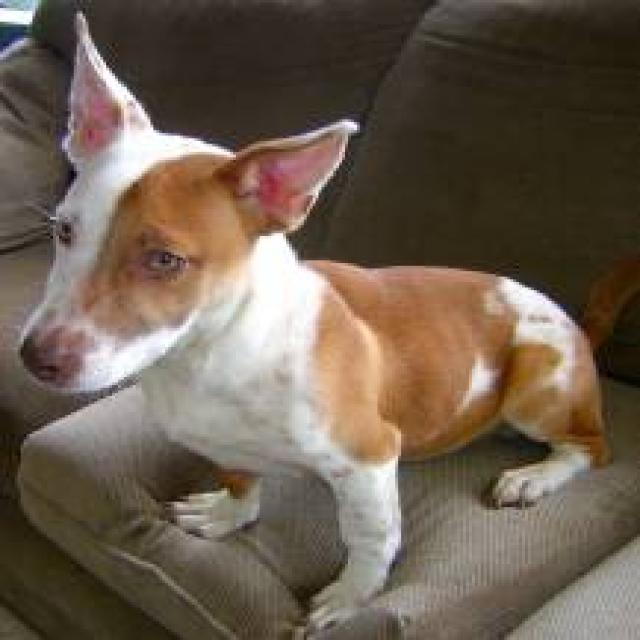dog: (15, 8, 613, 637)
